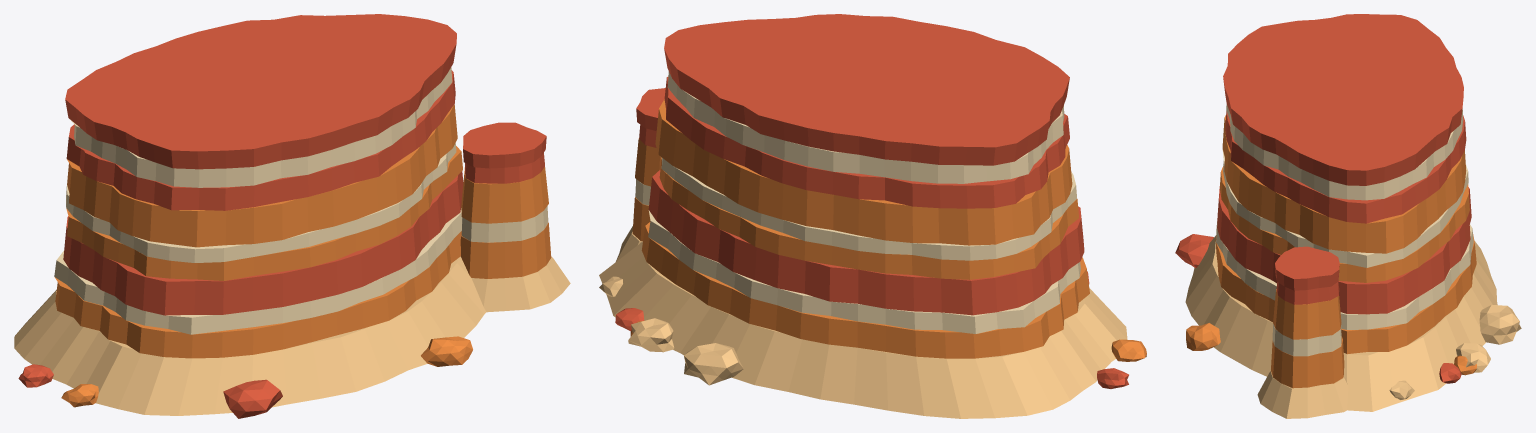
Rendered from mesa.glb.
3 views of the same model, side by side, from view 1: azimuth 30°, elevation 25°; view 2: azimuth 150°, elevation 25°; view 3: azimuth 270°, elevation 25° (orthographic). The views are drawn at different scales.
Parts seen in each view (by area): view 1: mesa; view 2: mesa; view 3: mesa.
Boxes of the visible parts, x1,y1,x2,y2 form: mesa: (14, 14, 570, 418); mesa: (599, 14, 1146, 418); mesa: (1175, 14, 1521, 418).
Size of the model in its own units: 39.87 by 18 by 26.3.
